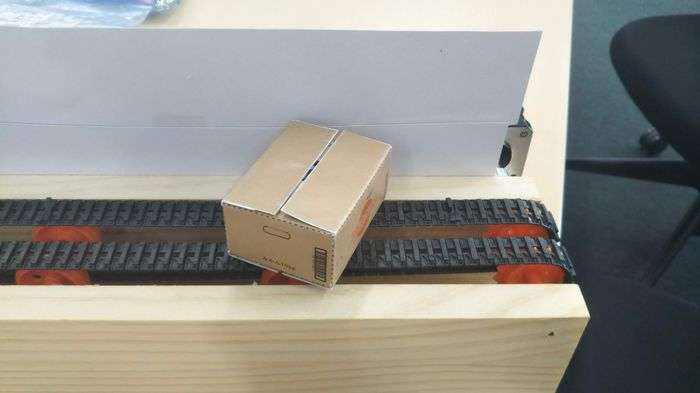box1: (216, 118, 393, 290)
